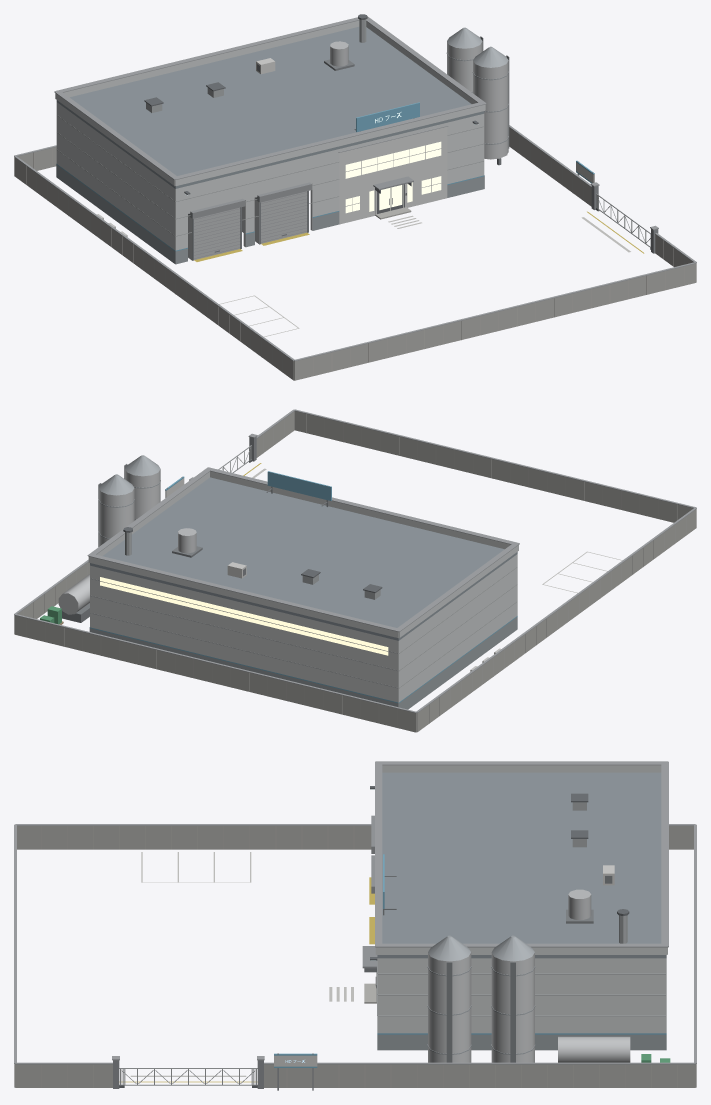
The model's file is biz_4006.glb.
The picture shows the model from 3 angles, top to bottom: view 1: azimuth 30°, elevation 25°; view 2: azimuth 150°, elevation 25°; view 3: azimuth 270°, elevation 25°; orthographic projection. The views are drawn at different scales.
Parts seen in each view (by area): view 1: Static, Shutter_Down, Windows; view 2: Static, Windows; view 3: Static, Gate_Closed.
Boxes of the visible parts, <box> form: Static: <box>14,14,696,380</box>; Shutter_Down: <box>194,192,307,259</box>; Windows: <box>345,141,441,213</box>; Static: <box>14,409,696,732</box>; Windows: <box>100,577,388,655</box>; Static: <box>14,761,696,1090</box>; Gate_Closed: <box>119,1068,257,1087</box>.
Bounding box in the file's own units: 39.62 × 10.3 × 47.2.
